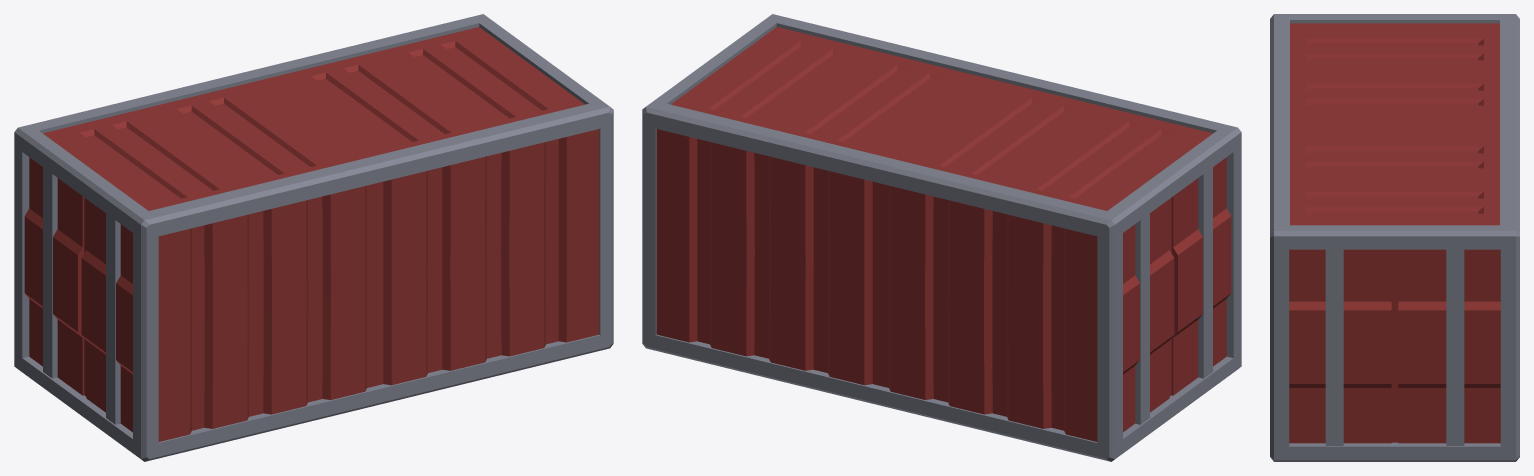
File: Shipping Container.glb
3 views of the same model, side by side, from view 1: azimuth 30°, elevation 25°; view 2: azimuth 150°, elevation 25°; view 3: azimuth 270°, elevation 25° (orthographic). The views are drawn at different scales.
Visible parts, largest first — view 1: Shipping Container; view 2: Shipping Container; view 3: Shipping Container.
Boxes of the visible parts, x1,y1,x2,y2 form: Shipping Container: (14,14,613,461); Shipping Container: (642,14,1241,461); Shipping Container: (1270,14,1519,461).
Size of the model in its own units: 1.4 by 0.6818 by 0.6688.
